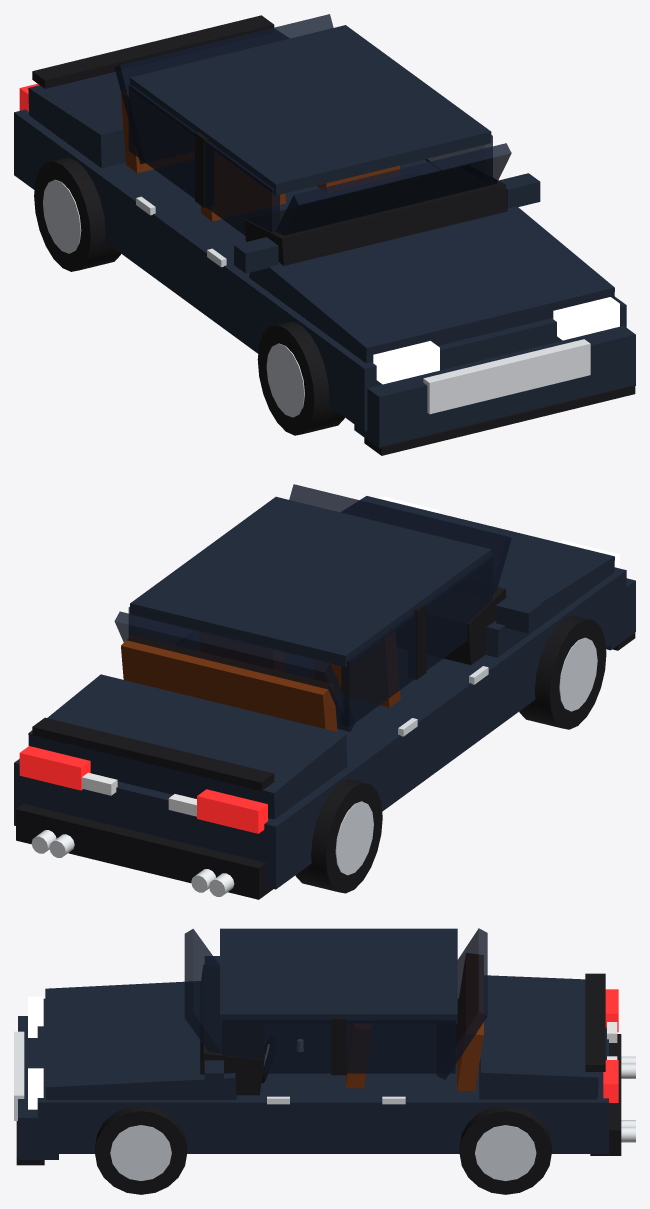
Rendered from dhaka_sedan.glb.
3 views of the same model, one above another, from view 1: azimuth 30°, elevation 25°; view 2: azimuth 150°, elevation 25°; view 3: azimuth 270°, elevation 25° (orthographic). The views are drawn at different scales.
Parts seen in each view (by area): view 1: Chassis, Body_Roof, Body_Hood, Body_Lower, Interior_Dashboard, Glass_Windshield, Body_Trunk, Wheel_RL, Wheel_FL, Glass_Rear, Seat_Passenger, Headlight_L (+2 smaller); view 2: Chassis, Body_Roof, Body_Lower, Body_Trunk, Body_Hood, Wheel_RL, Wheel_FL, Glass_Rear, Interior_Dashboard, Glass_Windshield, Seat_Passenger, BrakeLight_L (+3 smaller); view 3: Body_Lower, Chassis, Body_Roof, Body_Hood, Body_Trunk, Wheel_FR, Wheel_RR, Interior_Dashboard, Glass_Windshield, Glass_Rear, Seat_Driver, BrakeLight_R (+3 smaller).
Boxes of the visible parts, <box> form: Chassis: <box>32,15,635,455</box>; Body_Roof: <box>130,25,491,195</box>; Body_Hood: <box>249,206,614,363</box>; Body_Lower: <box>14,109,626,431</box>; Interior_Dashboard: <box>244,168,507,265</box>; Glass_Windshield: <box>276,143,511,235</box>; Body_Trunk: <box>28,29,288,168</box>; Wheel_RL: <box>34,157,120,271</box>; Wheel_FL: <box>257,321,344,435</box>; Glass_Rear: <box>114,14,333,164</box>; Seat_Passenger: <box>200,151,285,221</box>; Headlight_L: <box>373,341,439,384</box>; Chassis: <box>16,556,635,899</box>; Body_Roof: <box>130,496,491,667</box>; Body_Lower: <box>14,567,626,889</box>; Body_Trunk: <box>28,674,347,819</box>; Body_Hood: <box>342,496,614,657</box>; Wheel_RL: <box>295,779,382,893</box>; Wheel_FL: <box>519,615,606,729</box>; Glass_Rear: <box>114,611,354,731</box>; Interior_Dashboard: <box>396,586,506,664</box>; Glass_Windshield: <box>289,484,511,593</box>; Seat_Passenger: <box>314,632,400,707</box>; BrakeLight_L: <box>197,789,267,833</box>; Body_Lower: <box>37,998,608,1153</box>; Chassis: <box>14,953,635,1165</box>; Body_Roof: <box>220,928,457,1023</box>; Body_Hood: <box>45,981,236,1099</box>; Body_Trunk: <box>479,975,598,1099</box>; Wheel_FR: <box>95,1105,187,1194</box>; Wheel_RR: <box>459,1105,551,1194</box>; Interior_Dashboard: <box>200,965,264,1095</box>; Glass_Windshield: <box>184,928,221,1053</box>; Glass_Rear: <box>436,928,487,1079</box>; Seat_Driver: <box>346,1024,370,1088</box>; BrakeLight_R: <box>603,1060,618,1102</box>.
Size of the model in its own units: 2.16 by 1.44 by 4.84.
